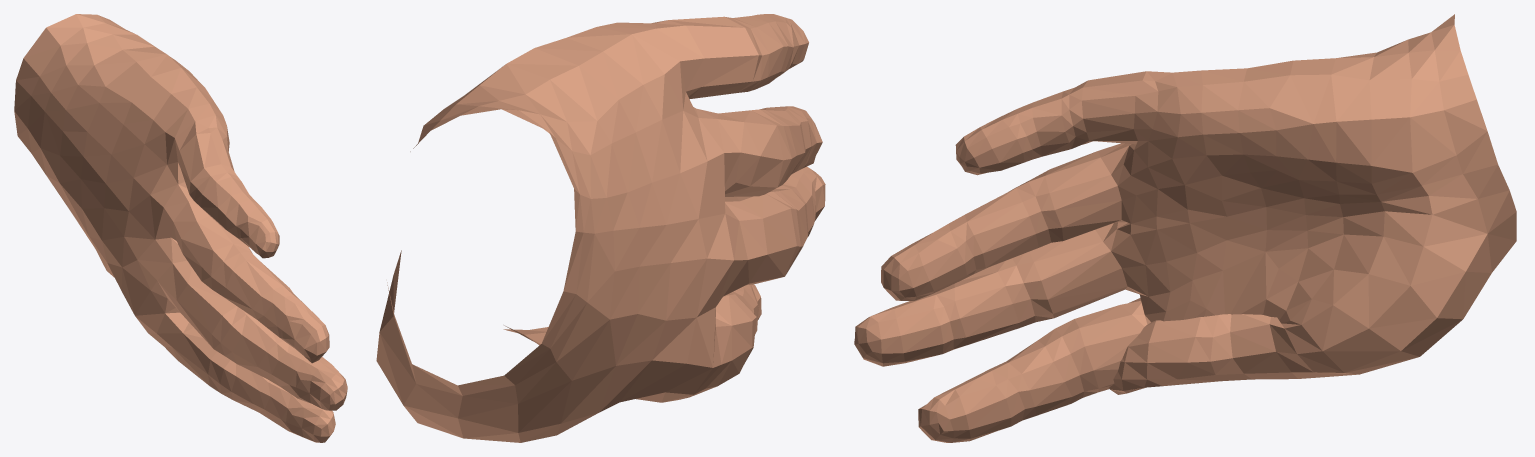
Rendered from frame_052.glb.
3 views of the same model, side by side, from view 1: azimuth 30°, elevation 25°; view 2: azimuth 150°, elevation 25°; view 3: azimuth 270°, elevation 25° (orthographic). The views are drawn at different scales.
Parts seen in each view (by area): view 1: world; view 2: world; view 3: world.
Boxes of the visible parts, x1=… form: world: x1=14, y1=14, x2=347, y2=442; world: x1=376, y1=14, x2=825, y2=442; world: x1=854, y1=14, x2=1516, y2=442.
Bounding box in the file's own units: 0.0541 × 0.1068 × 0.1658.
